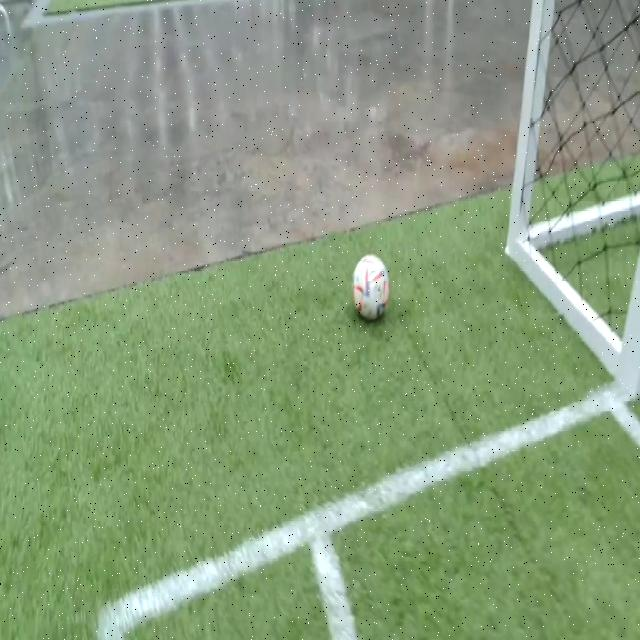ball: (352, 254, 390, 320)
